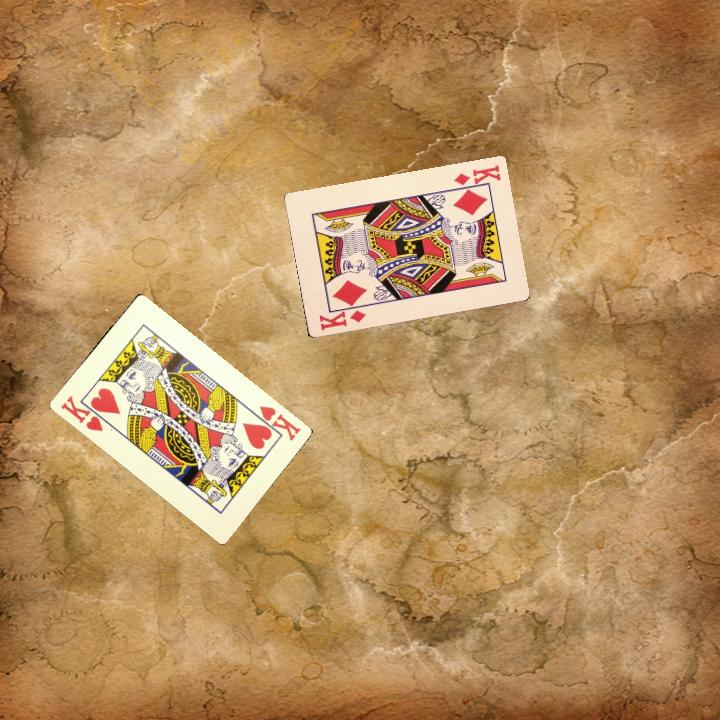Kd: (447, 161, 503, 193), (315, 300, 367, 333)
Kh: (56, 392, 111, 434), (249, 401, 303, 443)
